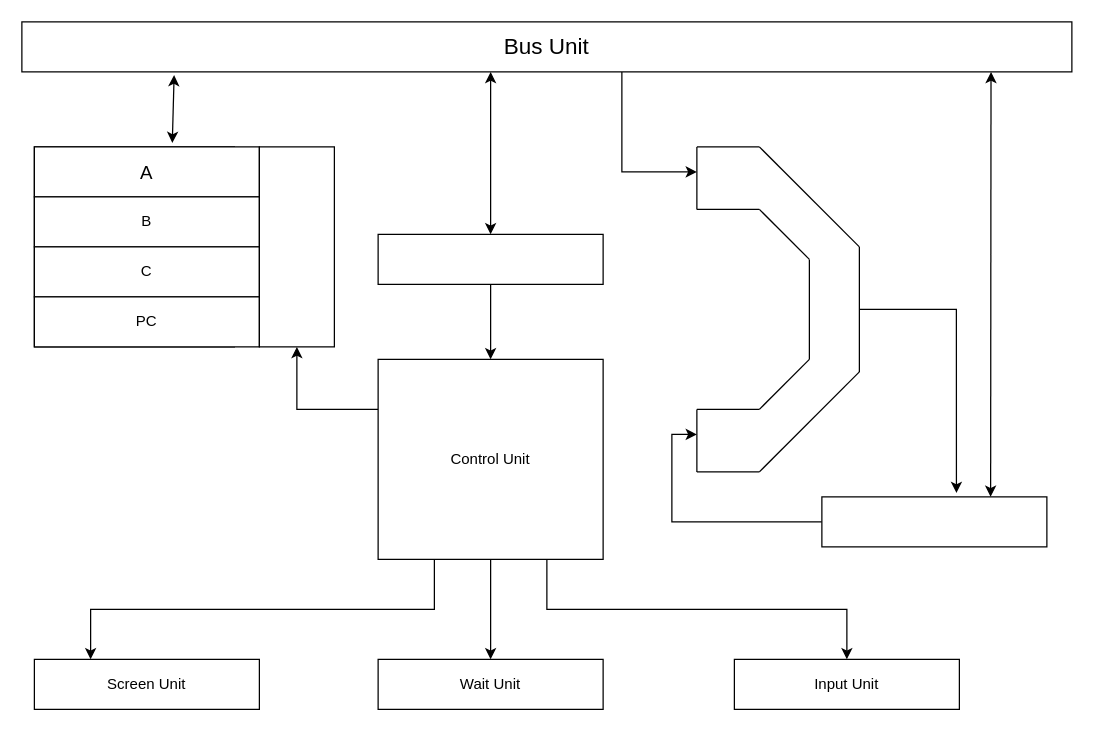
The diagram is 1094 pixels wide and 731 high, and some of its shapes have lost their labels. The centre of each missing label's shape, as x and y in pixels:
"AC" goes at (x=934, y=521).
"Instruction" goes at (x=490, y=258).
"Register Unit" goes at (x=296, y=246).
